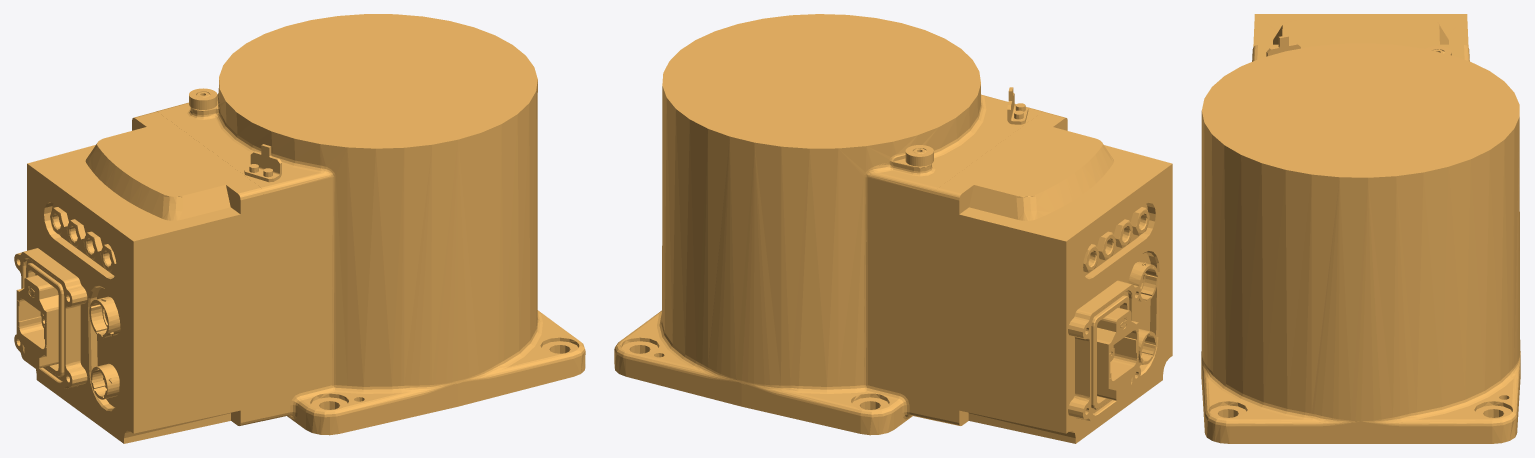
File: IRB120Link0.dae
The picture shows the model from 3 angles, left to right: view 1: azimuth 30°, elevation 25°; view 2: azimuth 150°, elevation 25°; view 3: azimuth 270°, elevation 25°; orthographic projection.
Parts seen in each view (by area): view 1: IRB120Link0; view 2: IRB120Link0; view 3: IRB120Link0.
Part boxes in pixels (x1,y1,x2,y2): IRB120Link0: (14, 14, 585, 443); IRB120Link0: (614, 14, 1172, 443); IRB120Link0: (1201, 14, 1520, 443).
Size of the model in its own units: 0.3012 by 0.1805 by 0.1663.
